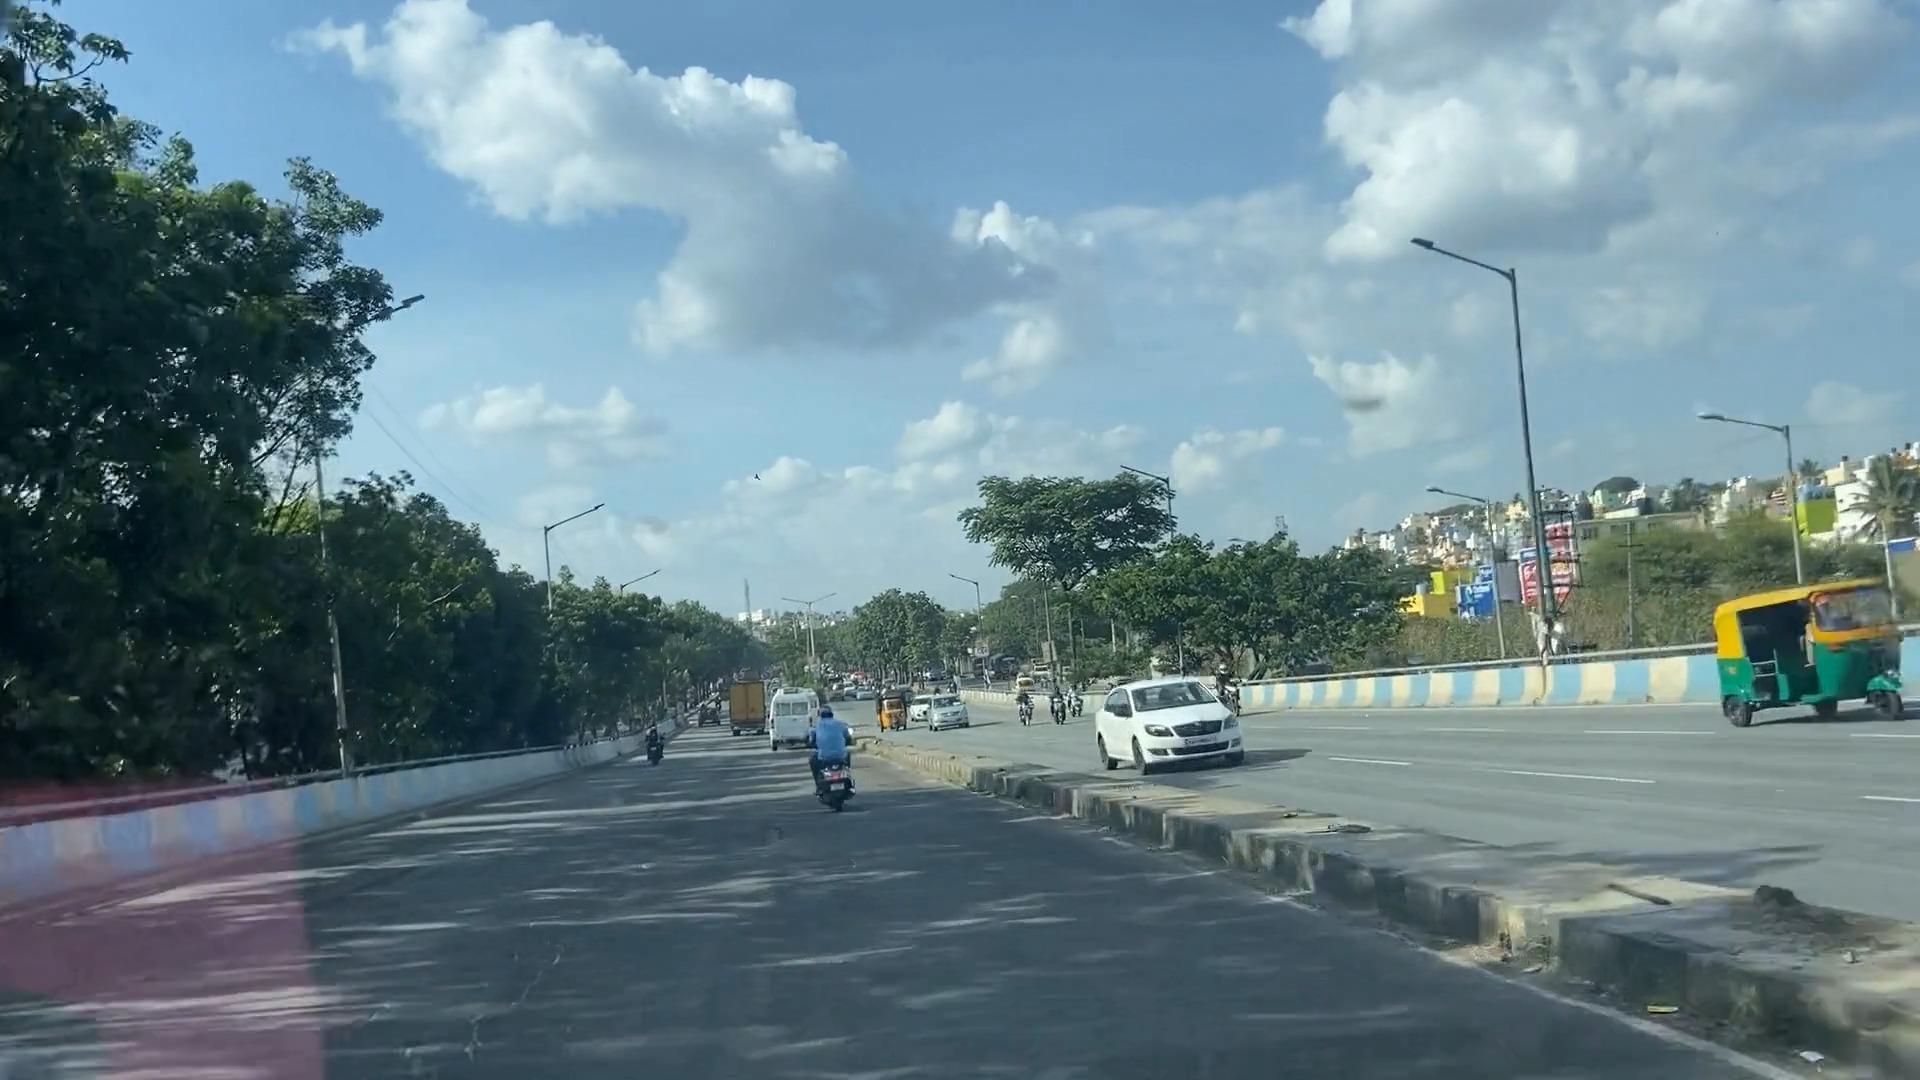LMV: (788, 726, 847, 800)
RoadDamages: (362, 914, 767, 1080)
